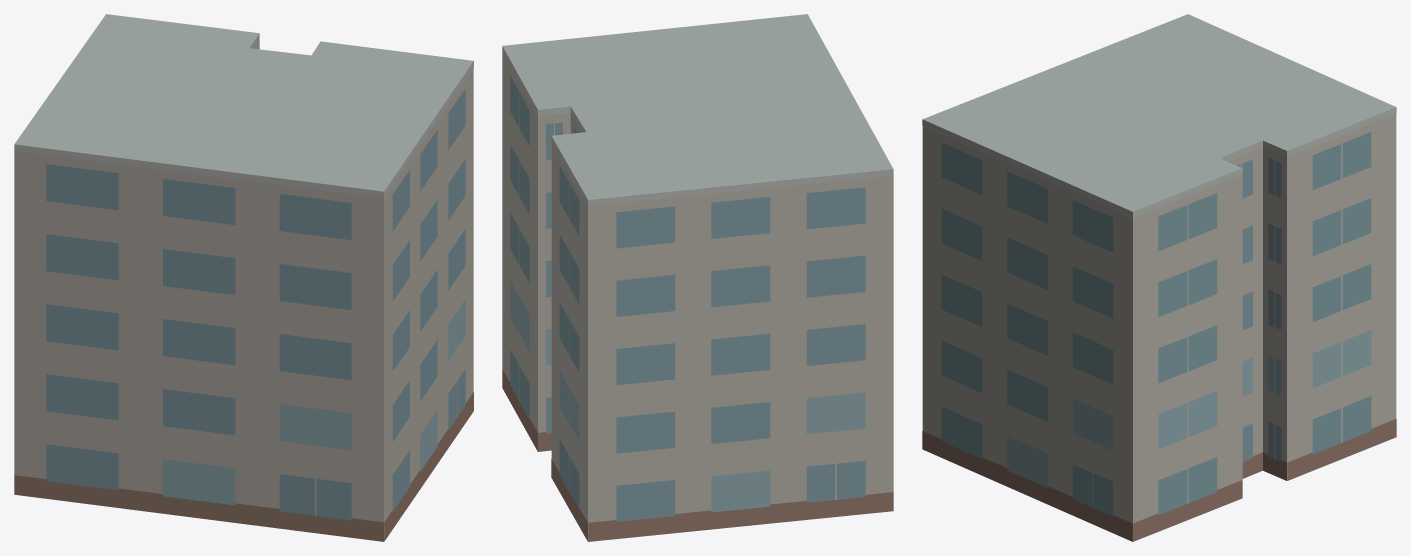
Rendered from survey-upis-33037431.glb.
The picture shows the model from 3 angles, left to right: view 1: azimuth 30°, elevation 25°; view 2: azimuth 150°, elevation 25°; view 3: azimuth 270°, elevation 25°; orthographic projection. The views are drawn at different scales.
Visible parts, largest first — view 1: survey-upis-33037431.tmp; view 2: survey-upis-33037431.tmp; view 3: survey-upis-33037431.tmp.
Part boxes in pixels (box(x1,y1,x2,y2)): survey-upis-33037431.tmp: box(14, 14, 473, 541); survey-upis-33037431.tmp: box(502, 14, 893, 541); survey-upis-33037431.tmp: box(922, 14, 1396, 541).
Bounding box in the file's own units: 16.46 × 12.8 × 16.67.
